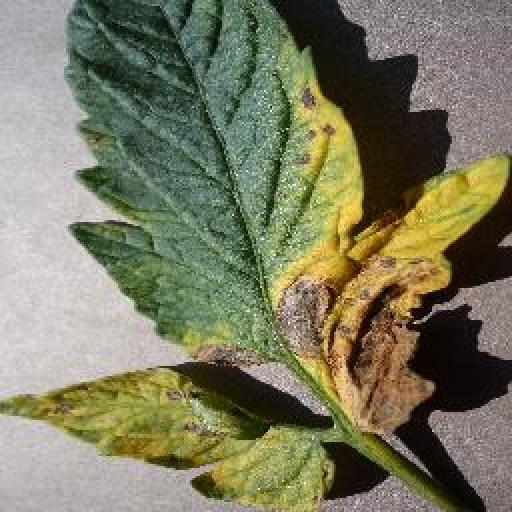disease_tomato: (60, 2, 512, 432)
